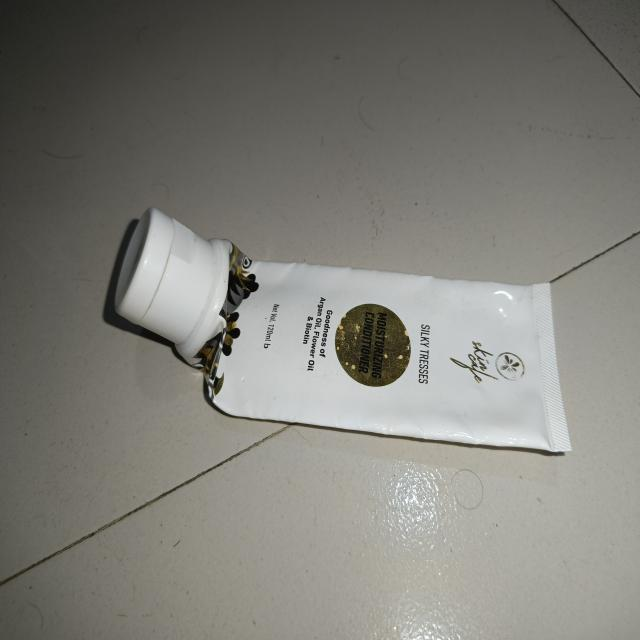Squeeze Tube: (111, 207, 582, 485)
